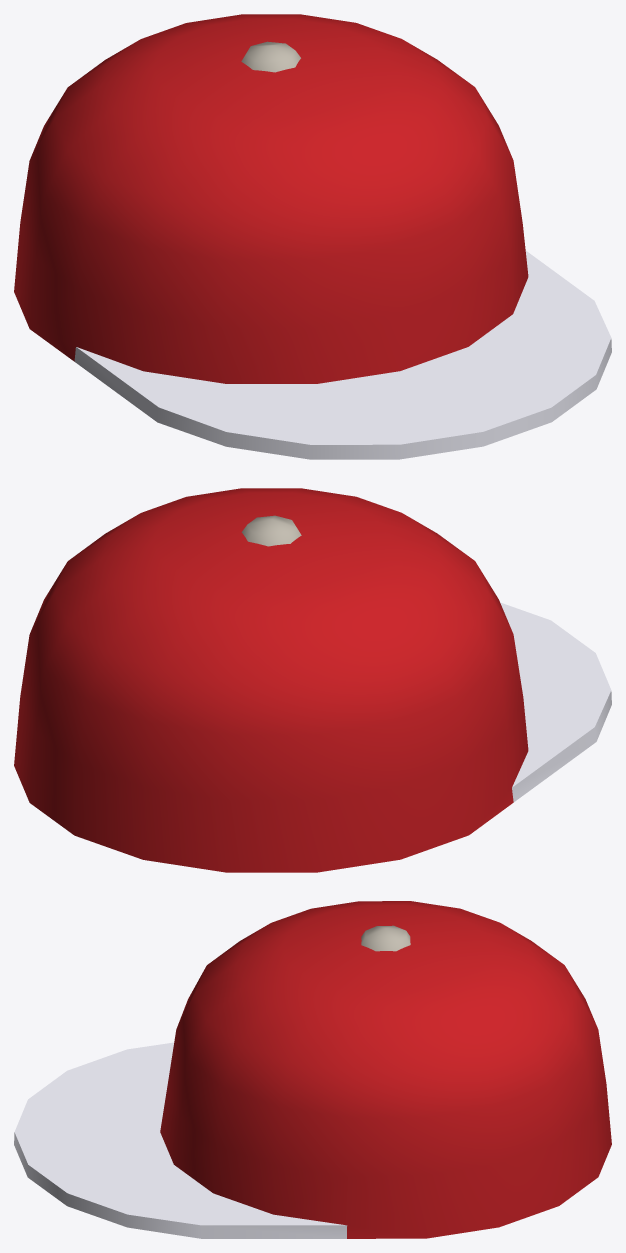
Rendered from Hat_10_01.fbx.
3 views of the same model, one above another, from view 1: azimuth 30°, elevation 25°; view 2: azimuth 150°, elevation 25°; view 3: azimuth 270°, elevation 25° (orthographic). The views are drawn at different scales.
Visible parts, largest first — view 1: Hat_10_01; view 2: Hat_10_01; view 3: Hat_10_01.
Boxes of the visible parts, bbox=[...] form: Hat_10_01: bbox=[14, 14, 611, 459]; Hat_10_01: bbox=[14, 488, 611, 872]; Hat_10_01: bbox=[14, 901, 611, 1238].
Size of the model in its own units: 35.83 by 19.18 by 48.09.
